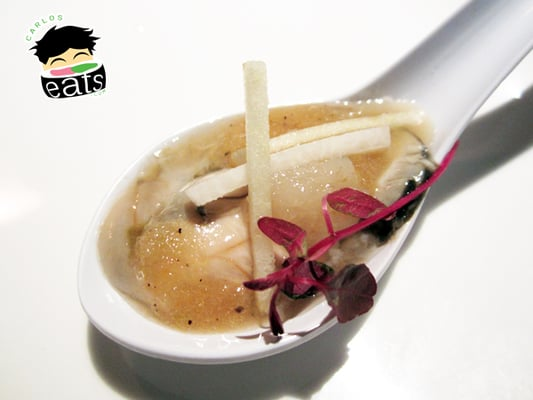sushi: (75, 75, 483, 371)
